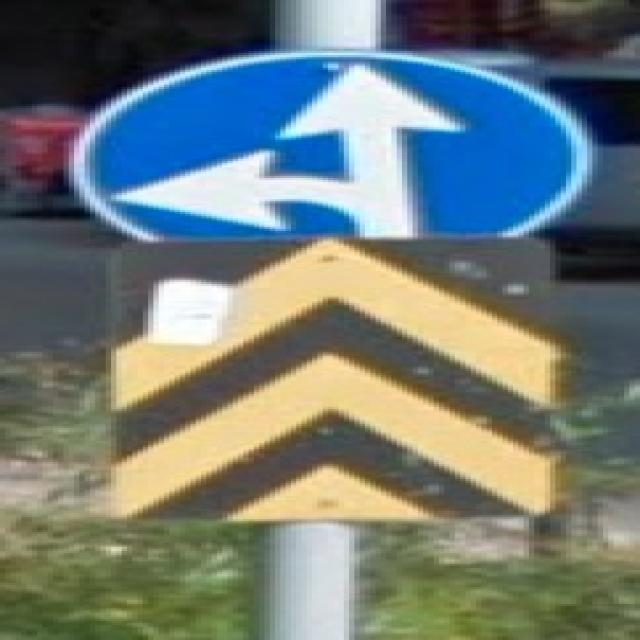Straight or Left: (67, 51, 596, 237)
